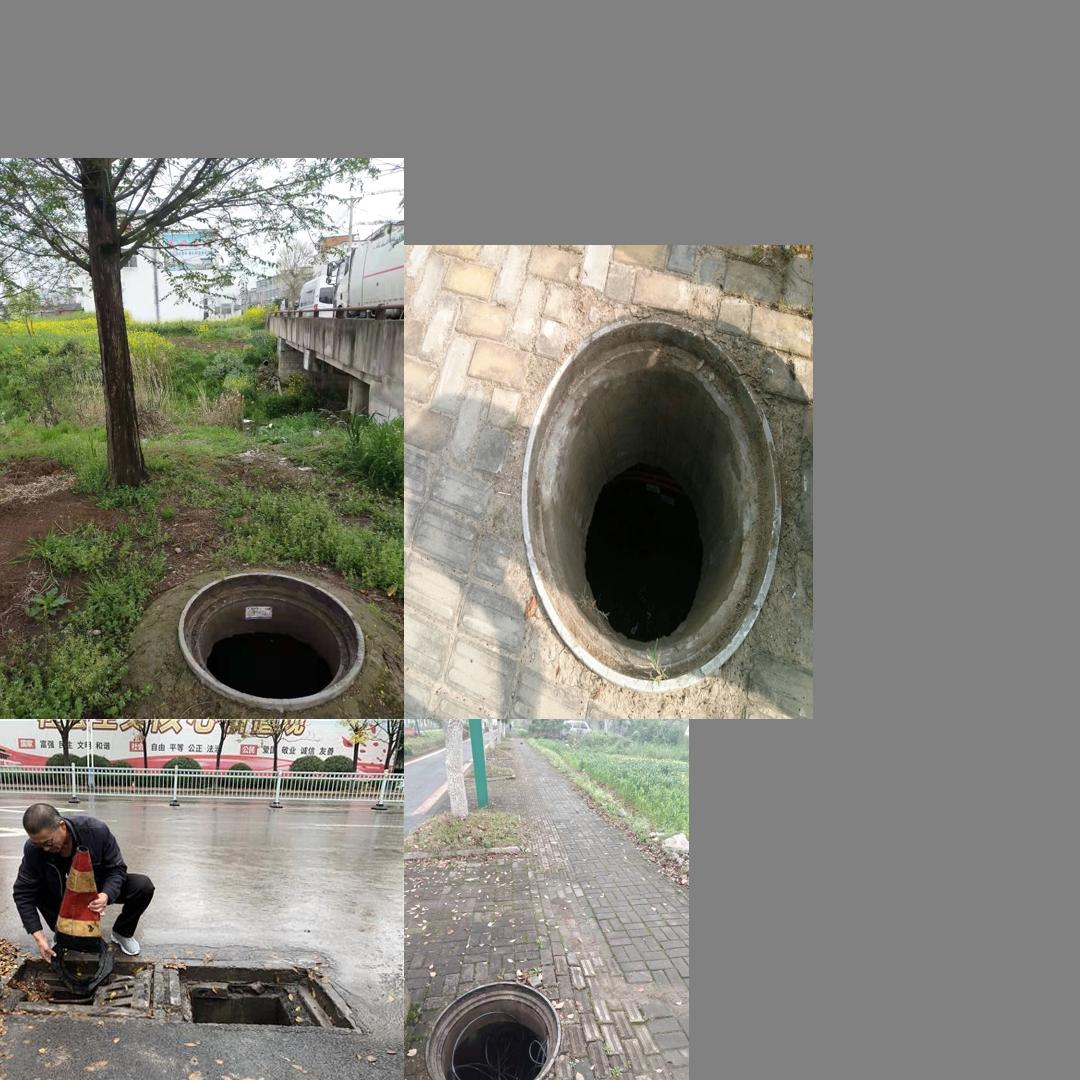lose: (521, 317, 780, 691), (0, 935, 368, 1043), (163, 570, 372, 704), (423, 980, 561, 1080)
